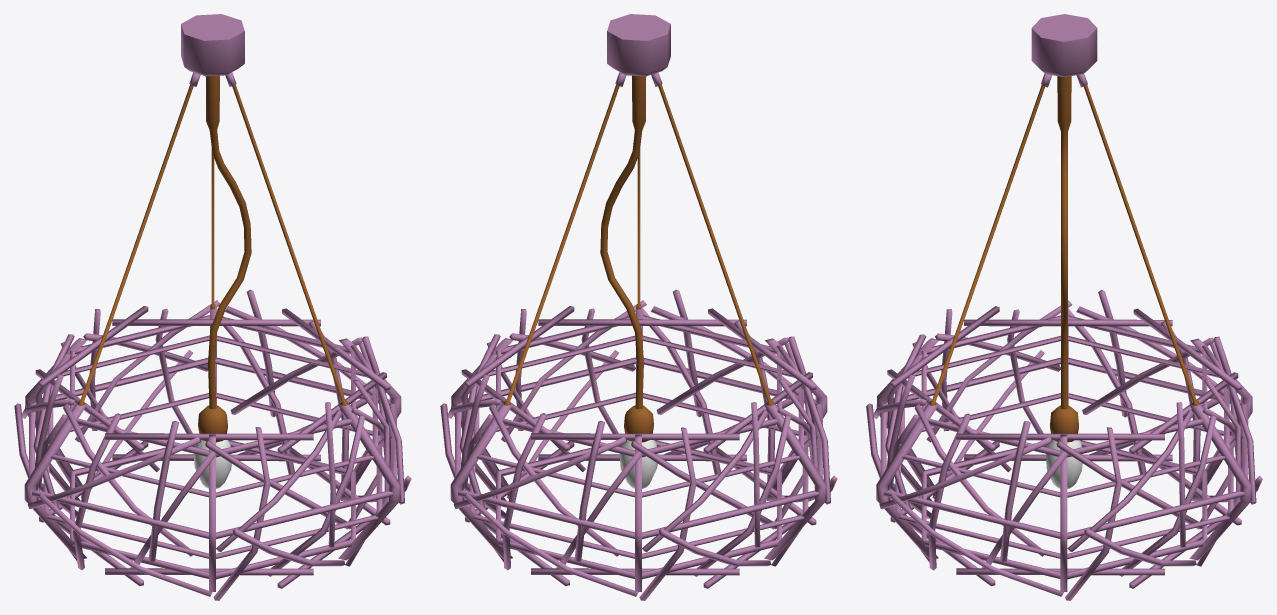
File: LightTopDesign07.FBX
3 renders of one model, left to right at view 1: azimuth 30°, elevation 25°; view 2: azimuth 150°, elevation 25°; view 3: azimuth 270°, elevation 25°, orthographic.
Parts seen in each view (by area): view 1: LightTopDesign07; view 2: LightTopDesign07; view 3: LightTopDesign07.
Part boxes in pixels (left/top/right/bottom): LightTopDesign07: left=14, top=14, right=411, bottom=600; LightTopDesign07: left=440, top=14, right=837, bottom=600; LightTopDesign07: left=866, top=14, right=1262, bottom=600.
Size of the model in its own units: 43.04 by 39.38 by 55.58.
